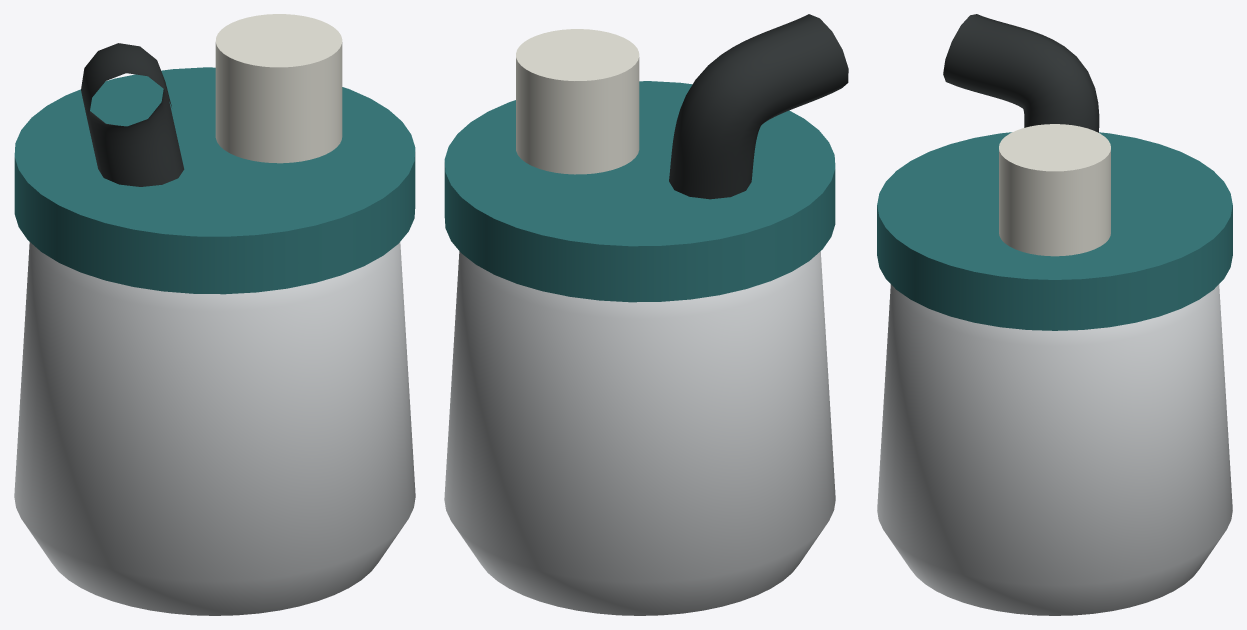
The model's file is tabletop-hobby-store-and-club-spray-out-cleaning-pot-738c134a__31598.glb.
3 renders of one model, left to right at view 1: azimuth 30°, elevation 25°; view 2: azimuth 150°, elevation 25°; view 3: azimuth 270°, elevation 25°, orthographic. The views are drawn at different scales.
Parts seen in each view (by area): view 1: spray-out-cleaning-pot; view 2: spray-out-cleaning-pot; view 3: spray-out-cleaning-pot.
Boxes of the visible parts, x1,y1,x2,y2 form: spray-out-cleaning-pot: [14, 14, 415, 615]; spray-out-cleaning-pot: [444, 14, 848, 615]; spray-out-cleaning-pot: [877, 14, 1232, 615].
Size of the model in its own units: 0.076 by 0.1128 by 0.076.
